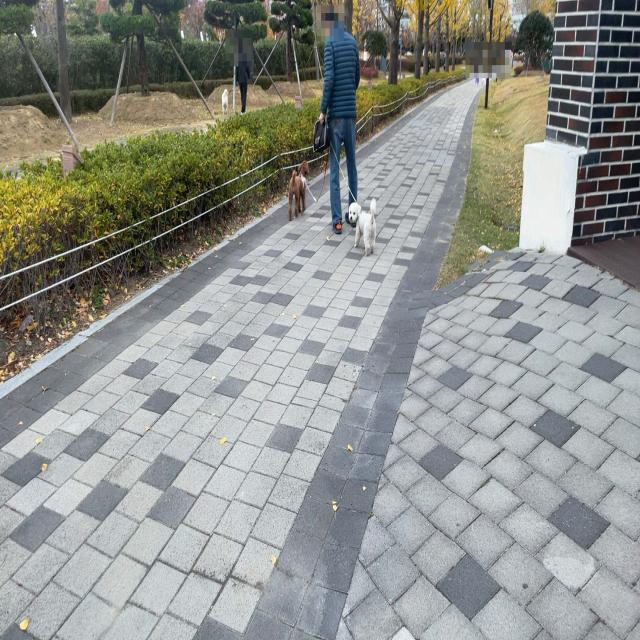Leashed_Dog: (332, 105, 377, 256), (288, 106, 332, 221), (221, 71, 245, 114)
